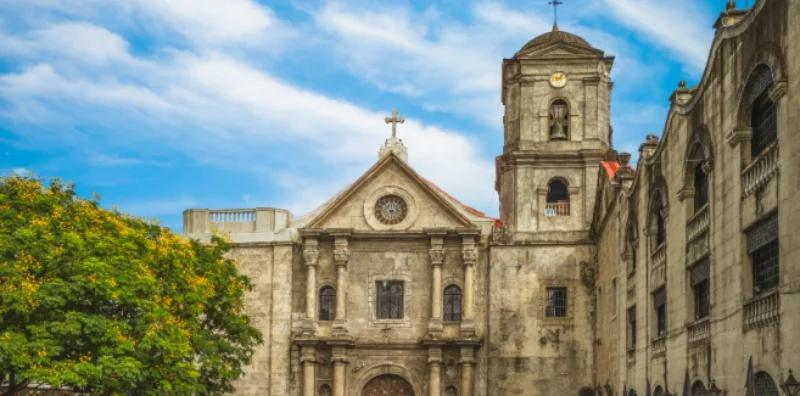San Agustin Church: (288, 3, 620, 396)
